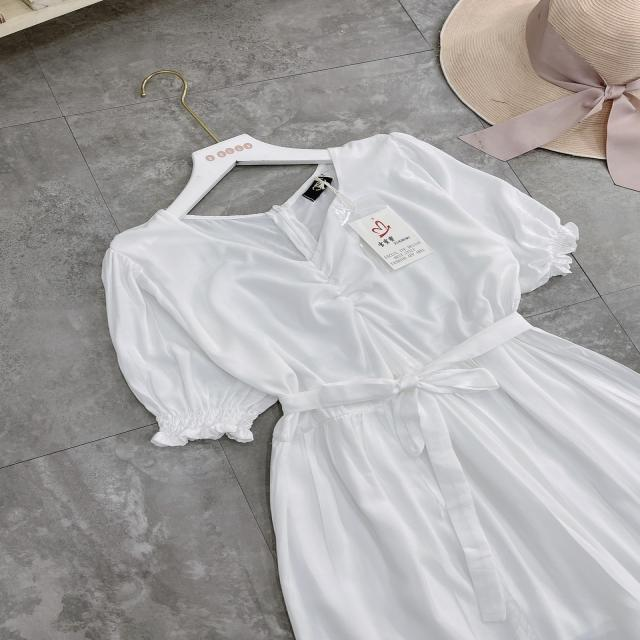clothes: (94, 127, 640, 640)
